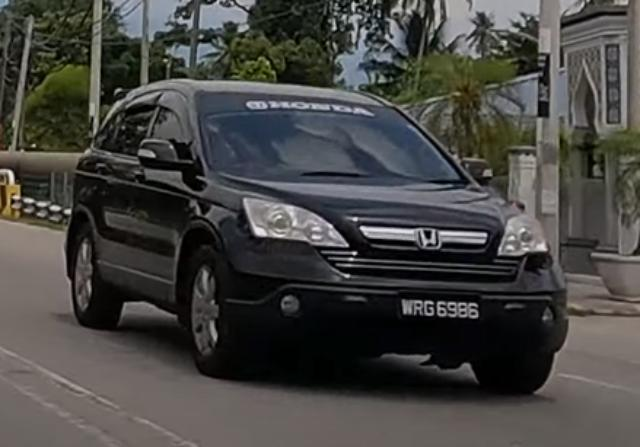License_Plate: (398, 296, 482, 323)
car: (65, 77, 570, 396)
